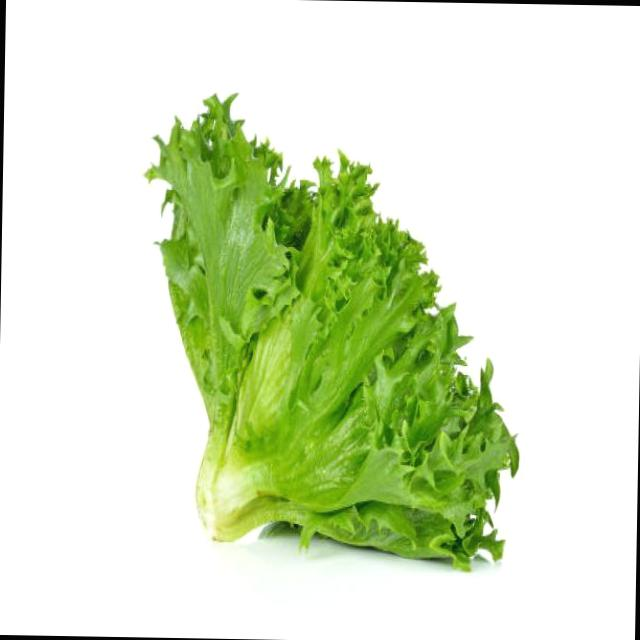Lettuce-Ready-to-Harvest: (147, 96, 518, 567)
